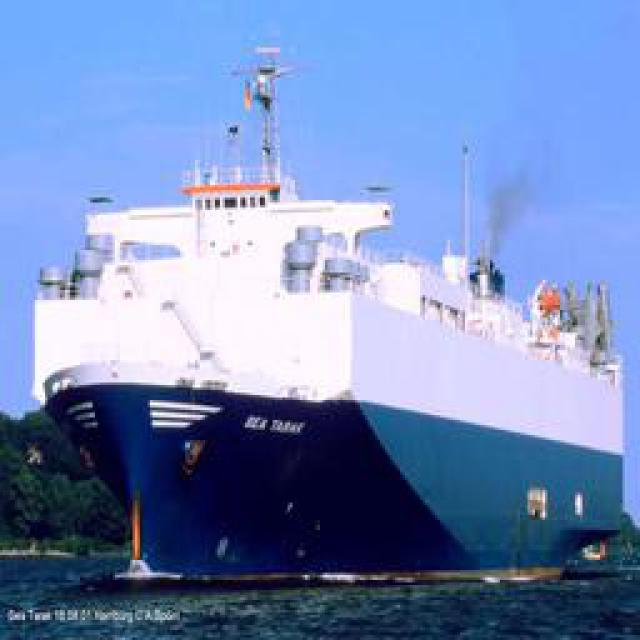Ship: (19, 40, 634, 588)
